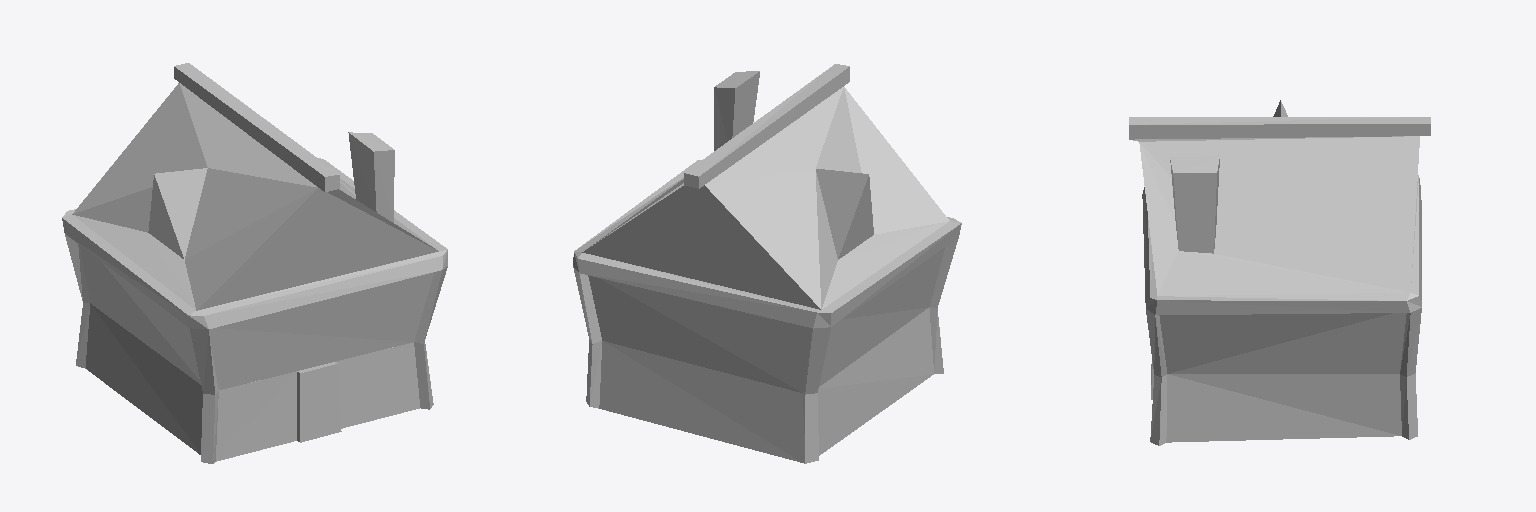
The model's file is CASA.obj.
3 views of the same model, side by side, from view 1: azimuth 30°, elevation 25°; view 2: azimuth 150°, elevation 25°; view 3: azimuth 270°, elevation 25° (orthographic).
Parts seen in each view (by area): view 1: Cube.001_Cube.001; view 2: Cube.001_Cube.001; view 3: Cube.001_Cube.001.
Part boxes in pixels (x1,y1,x2,y2): Cube.001_Cube.001: (62,63,447,463); Cube.001_Cube.001: (573,64,961,463); Cube.001_Cube.001: (1129,100,1430,445).
Size of the model in its own units: 4 by 3.98 by 4.